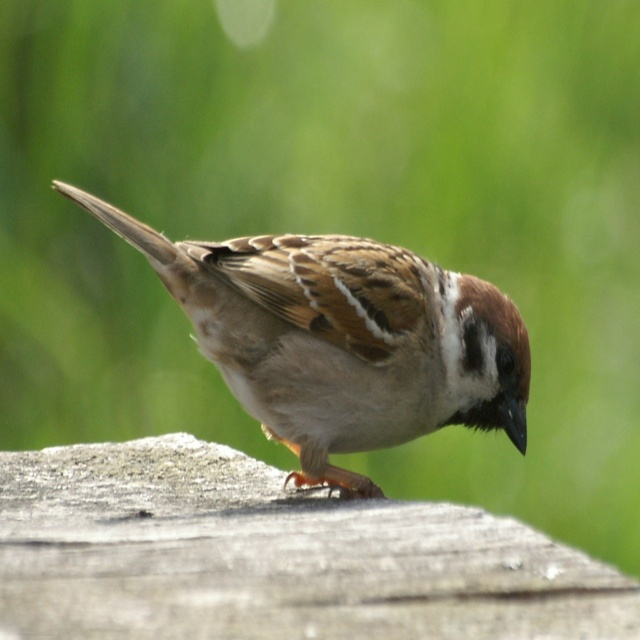Sparrow: (51, 179, 532, 497)
